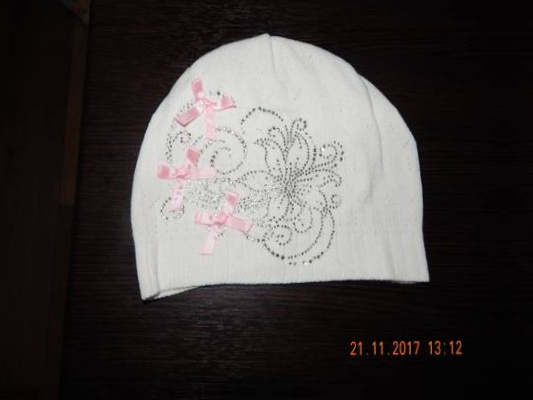Hat: (97, 0, 456, 332)
